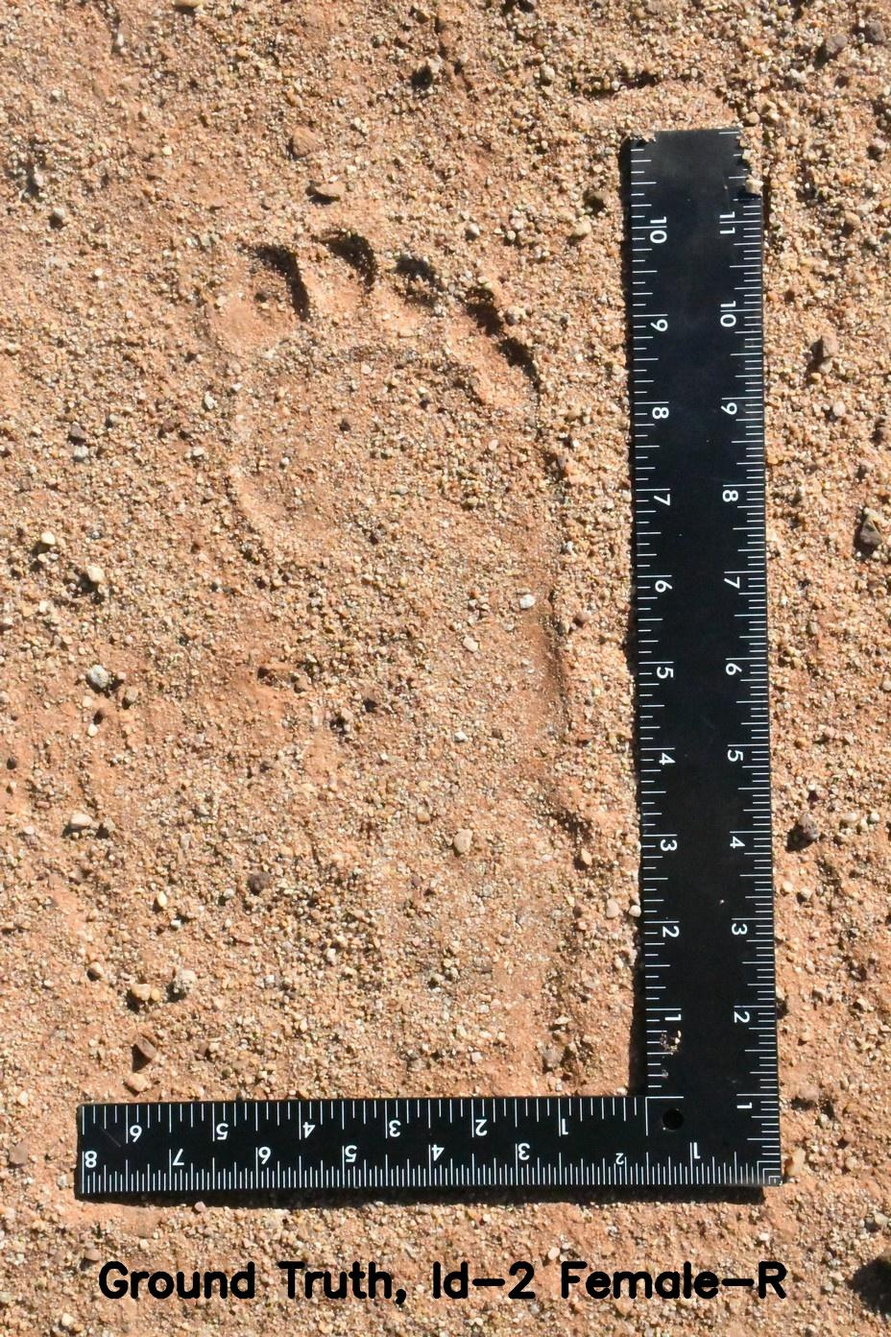human_foot_print: (193, 183, 612, 1069)
